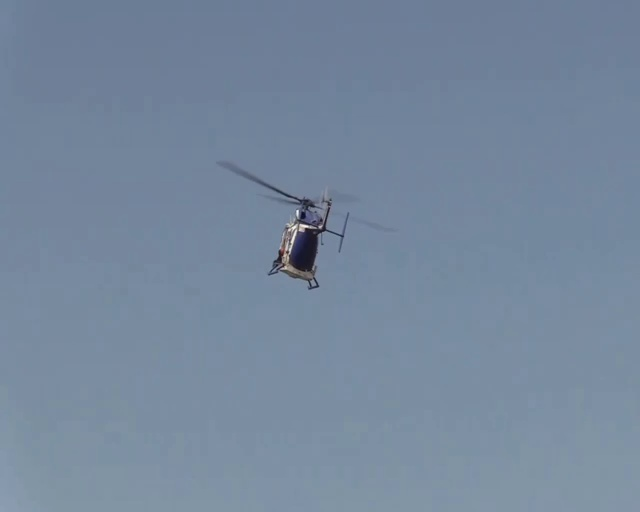HELICOPTER: (215, 160, 398, 290)
